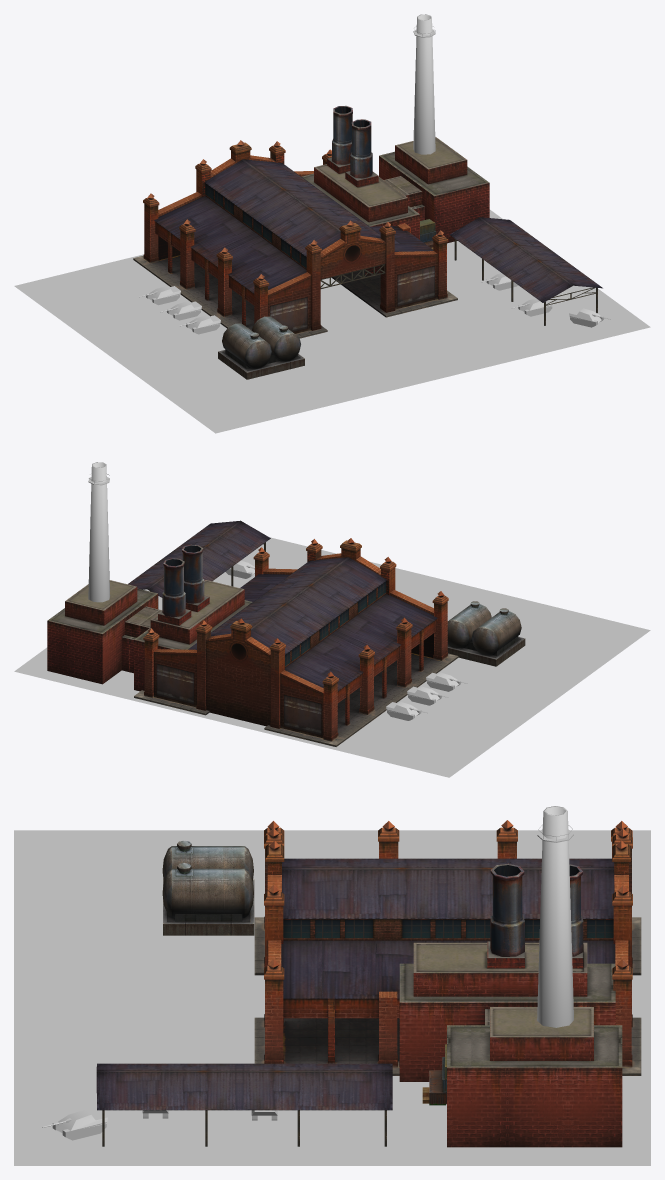
File: Dhz_Arsenal_03.FBX
3 views of the same model, one above another, from view 1: azimuth 30°, elevation 25°; view 2: azimuth 150°, elevation 25°; view 3: azimuth 270°, elevation 25° (orthographic). The views are drawn at different scales.
Parts seen in each view (by area): view 1: Dhz_arsenal_03; view 2: Dhz_arsenal_03; view 3: Dhz_arsenal_03.
Part boxes in pixels (x1,y1,x2,y2): Dhz_arsenal_03: (14, 14, 650, 433); Dhz_arsenal_03: (14, 462, 650, 777); Dhz_arsenal_03: (14, 806, 650, 1165).
Bounding box in the file's own units: 154 × 67.35 × 124.
